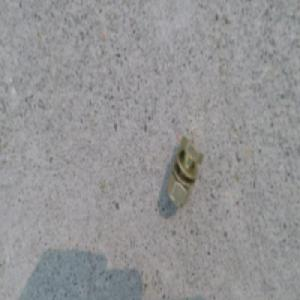BoltNutSet: (166, 136, 204, 208)
